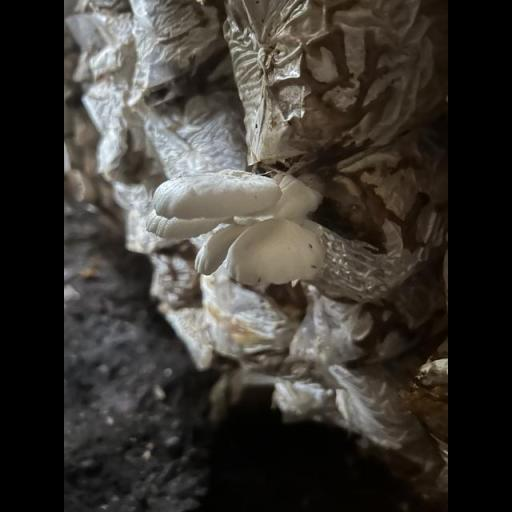White Oyster Mushroom: (152, 167, 333, 287)
